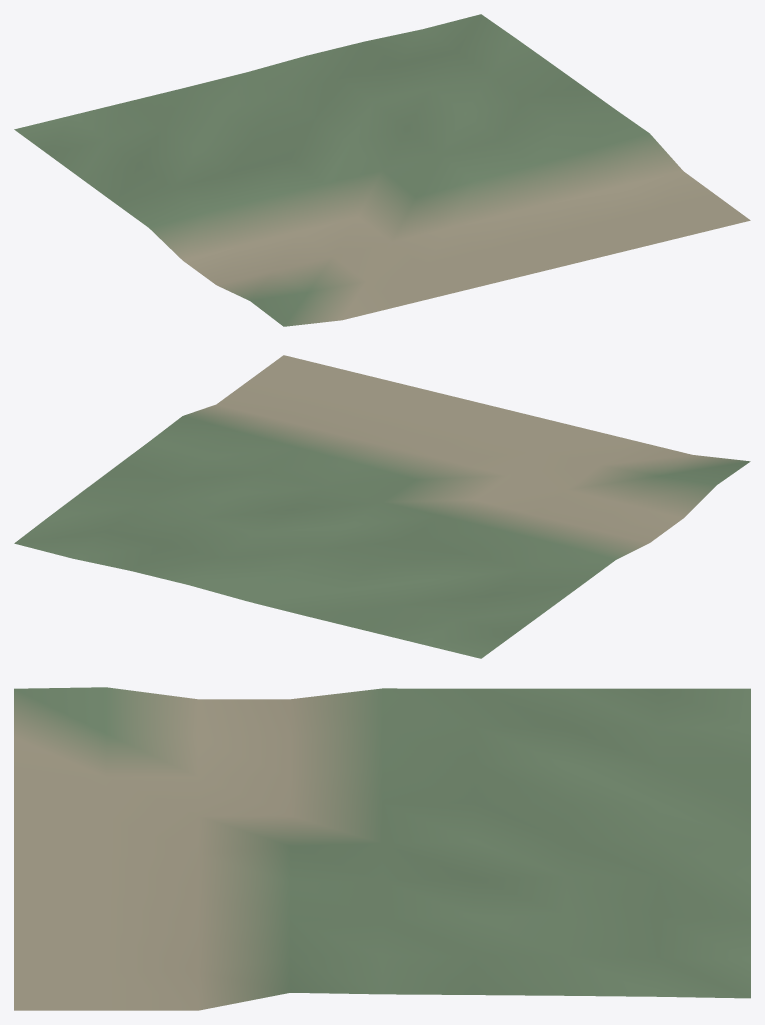
3 views of the same model, one above another, from view 1: azimuth 30°, elevation 25°; view 2: azimuth 150°, elevation 25°; view 3: azimuth 270°, elevation 25° (orthographic). The views are drawn at different scales.
Visible parts, largest first — view 1: Lo; view 2: Lo; view 3: Lo.
Part boxes in pixels (left/top/right/bottom): Lo: left=14, top=14, right=750, bottom=326; Lo: left=14, top=355, right=750, bottom=658; Lo: left=14, top=687, right=750, bottom=1010.
Size of the model in its own units: 256 by 6.86 by 256.
